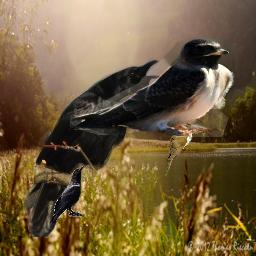Crow: (22, 56, 164, 237), (49, 165, 84, 229)
Cuckoo: (165, 126, 196, 178)
Swallow: (68, 38, 235, 137)
